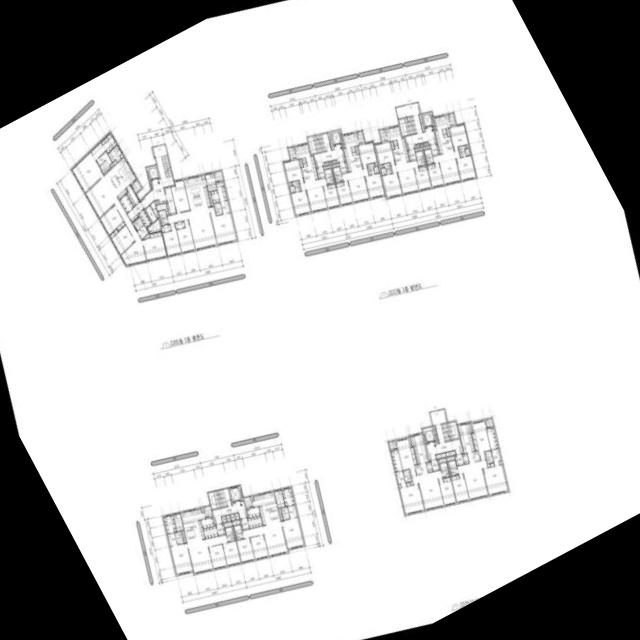background: (0, 0, 640, 640)
space_balconi: (130, 179, 141, 192), (213, 170, 222, 181)
space_bedroom: (71, 151, 102, 192), (208, 206, 236, 244), (398, 481, 423, 514), (482, 462, 507, 495), (395, 437, 416, 476), (108, 224, 134, 254), (471, 420, 490, 460), (141, 230, 166, 260), (169, 542, 192, 574), (99, 205, 124, 234), (281, 517, 303, 548), (170, 179, 189, 212), (176, 219, 194, 252), (162, 222, 180, 255), (448, 123, 468, 150), (450, 473, 468, 502), (437, 476, 455, 505), (357, 141, 376, 168), (455, 155, 475, 180), (290, 190, 310, 215), (381, 172, 401, 197), (364, 173, 384, 198), (282, 159, 303, 182), (249, 534, 268, 559), (374, 141, 394, 164), (236, 537, 254, 562), (208, 544, 226, 568), (221, 541, 239, 565), (413, 165, 430, 190), (426, 162, 443, 187), (335, 180, 352, 204), (322, 183, 339, 207), (160, 224, 170, 232), (174, 220, 184, 228)
space_dressroom: (100, 132, 116, 153), (281, 486, 294, 506), (162, 514, 175, 533), (390, 449, 401, 471), (486, 427, 497, 449), (215, 181, 226, 201), (395, 470, 405, 487), (491, 448, 500, 466), (210, 190, 219, 202)
space_elevator: (421, 426, 435, 443), (228, 485, 242, 502), (329, 130, 342, 145), (145, 165, 158, 180), (421, 112, 434, 127)
space_elevator_hall: (140, 144, 173, 208), (425, 409, 462, 459), (395, 102, 435, 148), (313, 133, 344, 166), (211, 501, 246, 523)
space_front: (126, 201, 143, 221), (163, 186, 175, 214), (138, 208, 151, 227), (119, 194, 132, 212), (246, 515, 262, 528), (202, 526, 217, 538), (453, 453, 463, 465), (215, 523, 224, 535), (315, 166, 324, 178), (338, 161, 347, 173), (407, 148, 416, 160), (239, 518, 248, 529), (430, 459, 439, 470), (430, 143, 438, 155)
space_kitchen: (104, 156, 136, 199), (251, 491, 280, 525), (182, 175, 210, 210), (293, 143, 317, 182), (384, 125, 408, 164), (457, 422, 479, 463), (180, 507, 205, 543), (409, 433, 428, 475), (433, 114, 453, 153), (342, 131, 361, 171), (200, 517, 213, 528), (246, 507, 259, 517)
space_living_room: (84, 175, 145, 265), (166, 206, 216, 249), (241, 521, 287, 555), (187, 534, 227, 573), (411, 470, 443, 509), (456, 459, 487, 499), (390, 159, 418, 193), (299, 177, 326, 211), (432, 150, 459, 184), (341, 168, 368, 202)
space_other: (126, 184, 138, 206), (107, 144, 121, 161), (204, 172, 216, 191), (172, 512, 183, 531), (273, 489, 284, 507), (145, 205, 156, 222), (147, 218, 160, 231), (156, 202, 168, 214), (149, 200, 157, 218), (418, 114, 423, 131), (425, 460, 432, 472), (327, 132, 332, 148), (461, 453, 468, 463), (435, 452, 445, 458), (109, 159, 116, 167), (208, 191, 212, 205), (445, 450, 455, 455), (278, 508, 282, 520), (231, 519, 239, 525), (181, 530, 185, 542), (223, 521, 231, 527), (438, 457, 446, 462), (446, 455, 454, 460), (469, 423, 473, 432), (225, 514, 230, 521), (234, 512, 239, 519), (221, 515, 226, 522), (229, 513, 234, 520), (142, 233, 149, 238), (331, 162, 338, 167), (422, 145, 430, 149), (354, 145, 358, 153), (322, 164, 330, 168), (432, 426, 436, 434), (434, 434, 438, 442), (414, 147, 421, 151), (408, 437, 411, 446), (390, 141, 393, 149), (149, 181, 152, 189), (446, 128, 449, 136), (299, 158, 302, 166), (200, 174, 204, 179), (119, 153, 123, 158), (154, 199, 158, 203), (250, 495, 253, 500), (414, 143, 419, 146), (327, 160, 332, 163), (498, 460, 501, 464), (419, 142, 423, 145), (374, 161, 377, 165), (332, 159, 336, 162), (323, 161, 327, 164), (423, 141, 427, 144), (397, 484, 400, 487), (287, 182, 290, 185), (466, 144, 469, 147), (378, 164, 381, 167), (409, 481, 412, 484), (487, 463, 489, 467), (341, 144, 343, 146), (432, 126, 434, 128)
space_outdoor_room: (356, 130, 364, 143), (287, 146, 295, 159), (243, 496, 252, 507), (203, 505, 211, 517), (379, 128, 386, 141), (448, 112, 455, 125), (484, 418, 493, 428), (388, 440, 396, 450)
space_staircase: (207, 488, 231, 508), (307, 134, 325, 153), (398, 116, 416, 135), (440, 421, 458, 440), (160, 154, 171, 177)
space_toilet: (95, 151, 111, 173), (90, 141, 104, 159), (447, 459, 457, 475), (224, 526, 234, 541), (423, 148, 433, 163), (439, 462, 449, 477), (323, 168, 333, 183), (332, 166, 342, 181), (158, 209, 167, 225), (137, 224, 147, 238), (287, 504, 297, 518), (415, 150, 424, 165), (233, 524, 242, 539), (219, 200, 229, 213), (167, 532, 176, 545), (290, 180, 300, 191), (382, 162, 391, 173), (366, 162, 374, 174), (135, 216, 143, 227), (457, 145, 465, 156), (132, 219, 139, 230), (174, 531, 182, 538), (281, 512, 289, 519), (402, 469, 410, 476), (485, 456, 493, 463), (484, 450, 492, 457), (403, 475, 411, 482), (175, 536, 183, 543), (280, 506, 288, 513), (213, 202, 220, 209), (214, 208, 222, 214), (372, 166, 378, 173), (289, 185, 295, 192), (380, 167, 386, 174), (464, 148, 469, 155)
